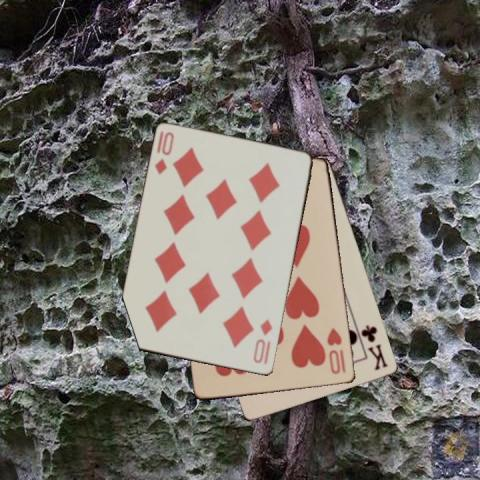10d: (251, 316, 274, 367), (152, 129, 175, 176)
10h: (324, 324, 347, 376)
Kc: (359, 322, 390, 372)
